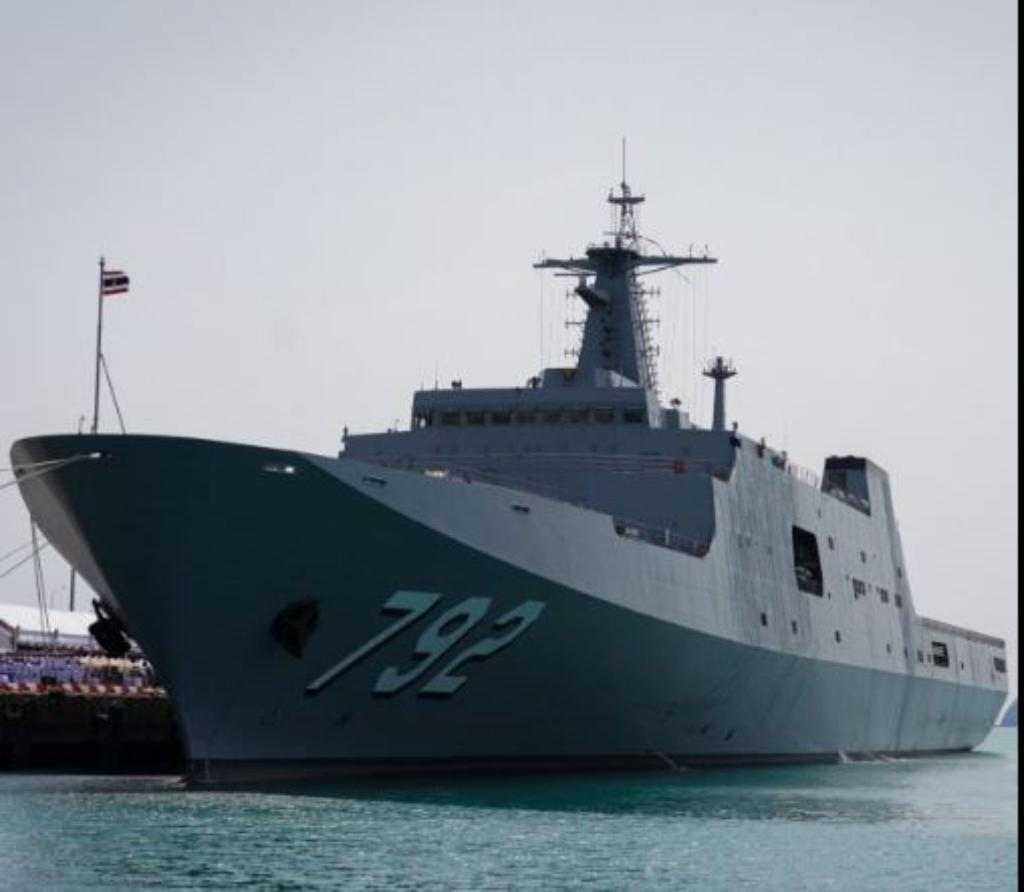Warship: (2, 169, 1022, 788)
